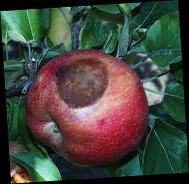rotten apple: (23, 49, 151, 166)
